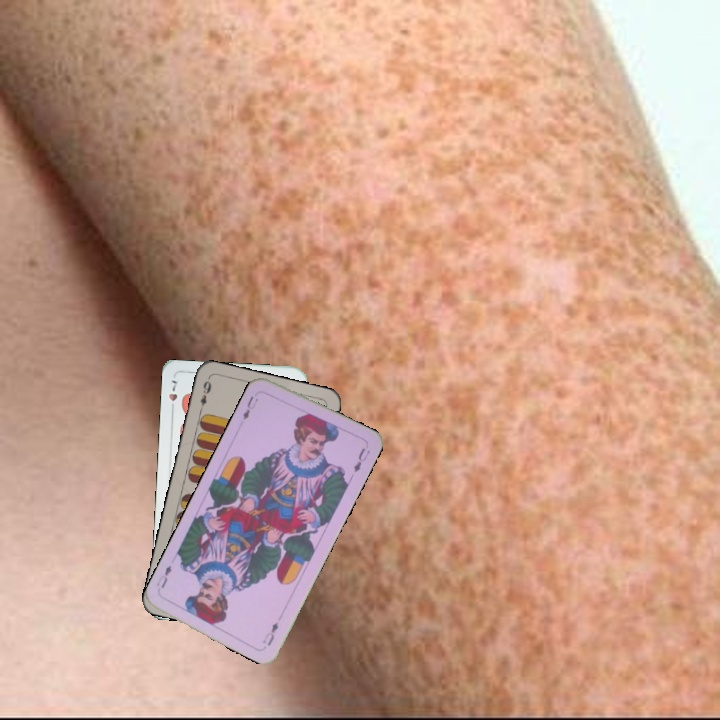E9: (195, 377, 214, 415)
EU: (239, 392, 261, 422), (259, 618, 281, 648)
H7: (165, 376, 180, 415)
